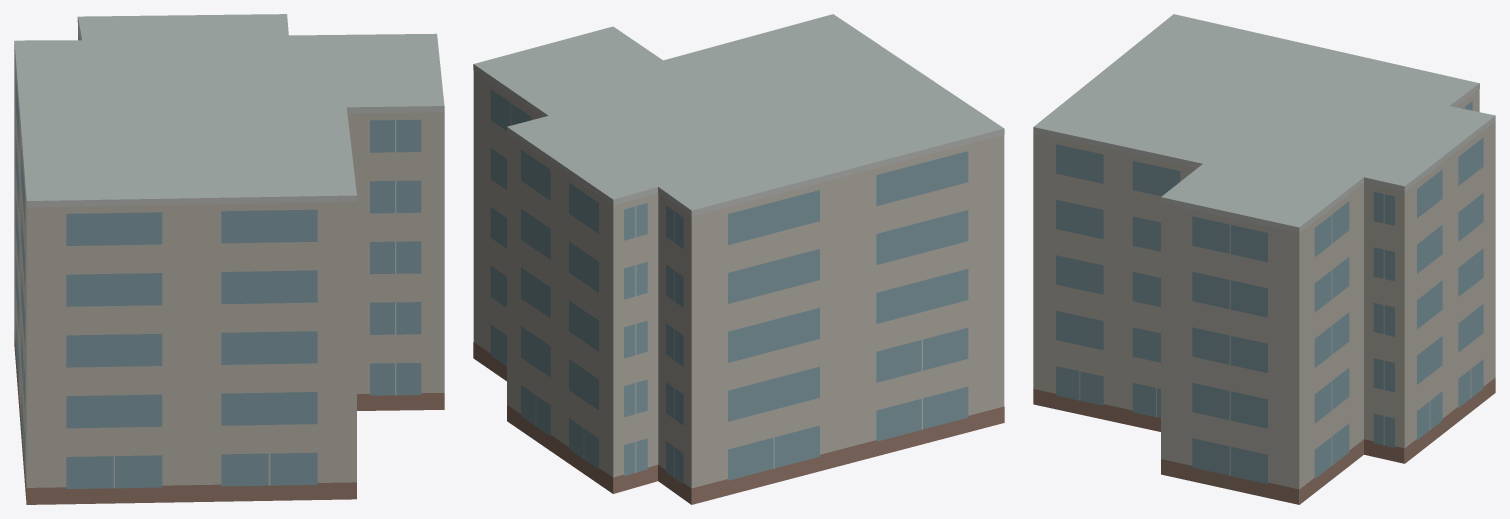
The model's file is survey-upis-32657319.glb.
3 renders of one model, left to right at view 1: azimuth 30°, elevation 25°; view 2: azimuth 150°, elevation 25°; view 3: azimuth 270°, elevation 25°, orthographic. The views are drawn at different scales.
Parts seen in each view (by area): view 1: survey-upis-32657319.tmp; view 2: survey-upis-32657319.tmp; view 3: survey-upis-32657319.tmp.
Part boxes in pixels (bbox=[...]): survey-upis-32657319.tmp: bbox=[14, 14, 444, 504]; survey-upis-32657319.tmp: bbox=[473, 14, 1004, 504]; survey-upis-32657319.tmp: bbox=[1033, 14, 1495, 504].
Bounding box in the file's own units: 19.32 × 11.7 × 17.68.
